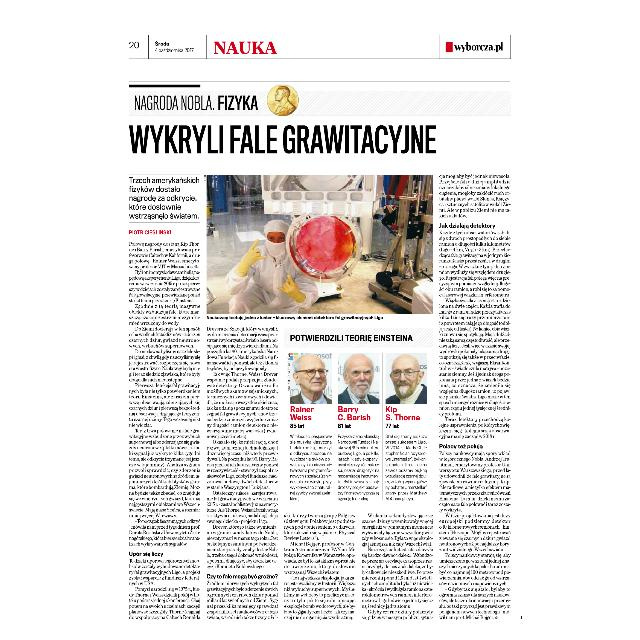article: (128, 83, 516, 624)
